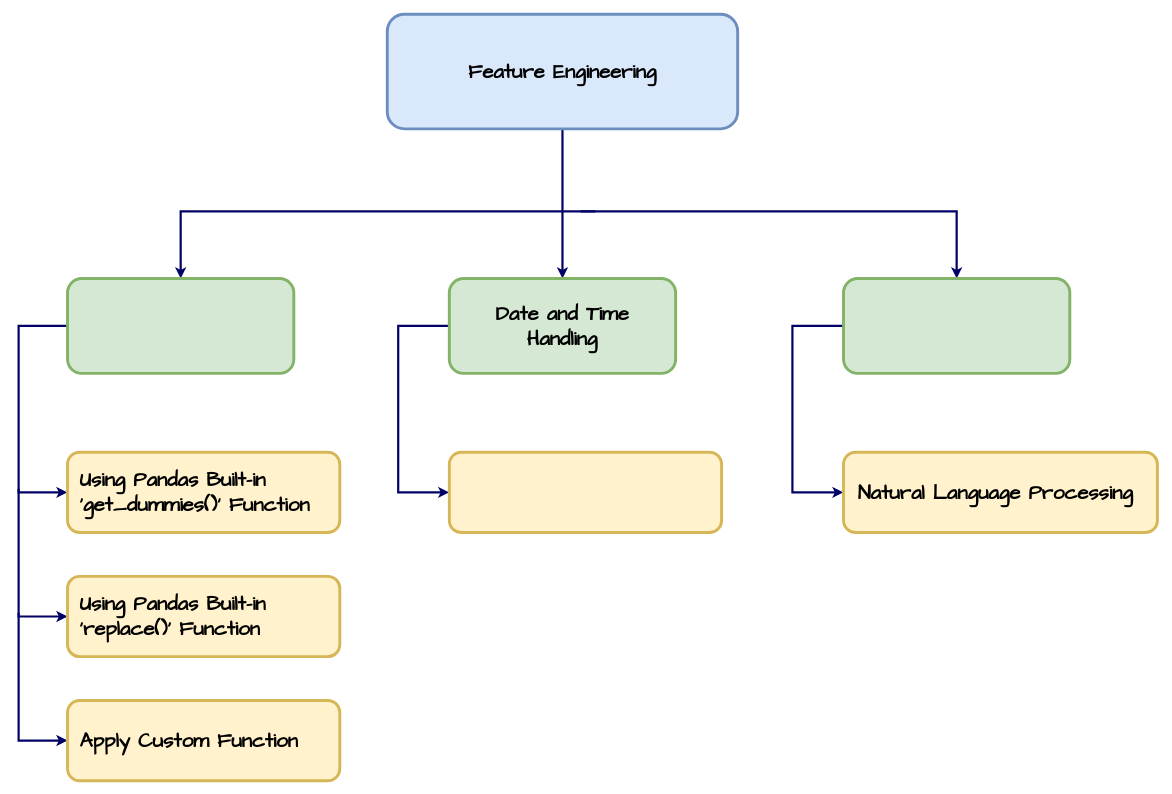
Some shapes in this 1172 by 794 pixel diagram are drawn without their labels. Each missing label, with the centre of its shape:
"Categorical Data Encoding" goes at [180,325].
"Textual Data Handling" goes at [956,325].
"Using Pandas Built-in 'to_datetime()' Function" goes at [585,492].
